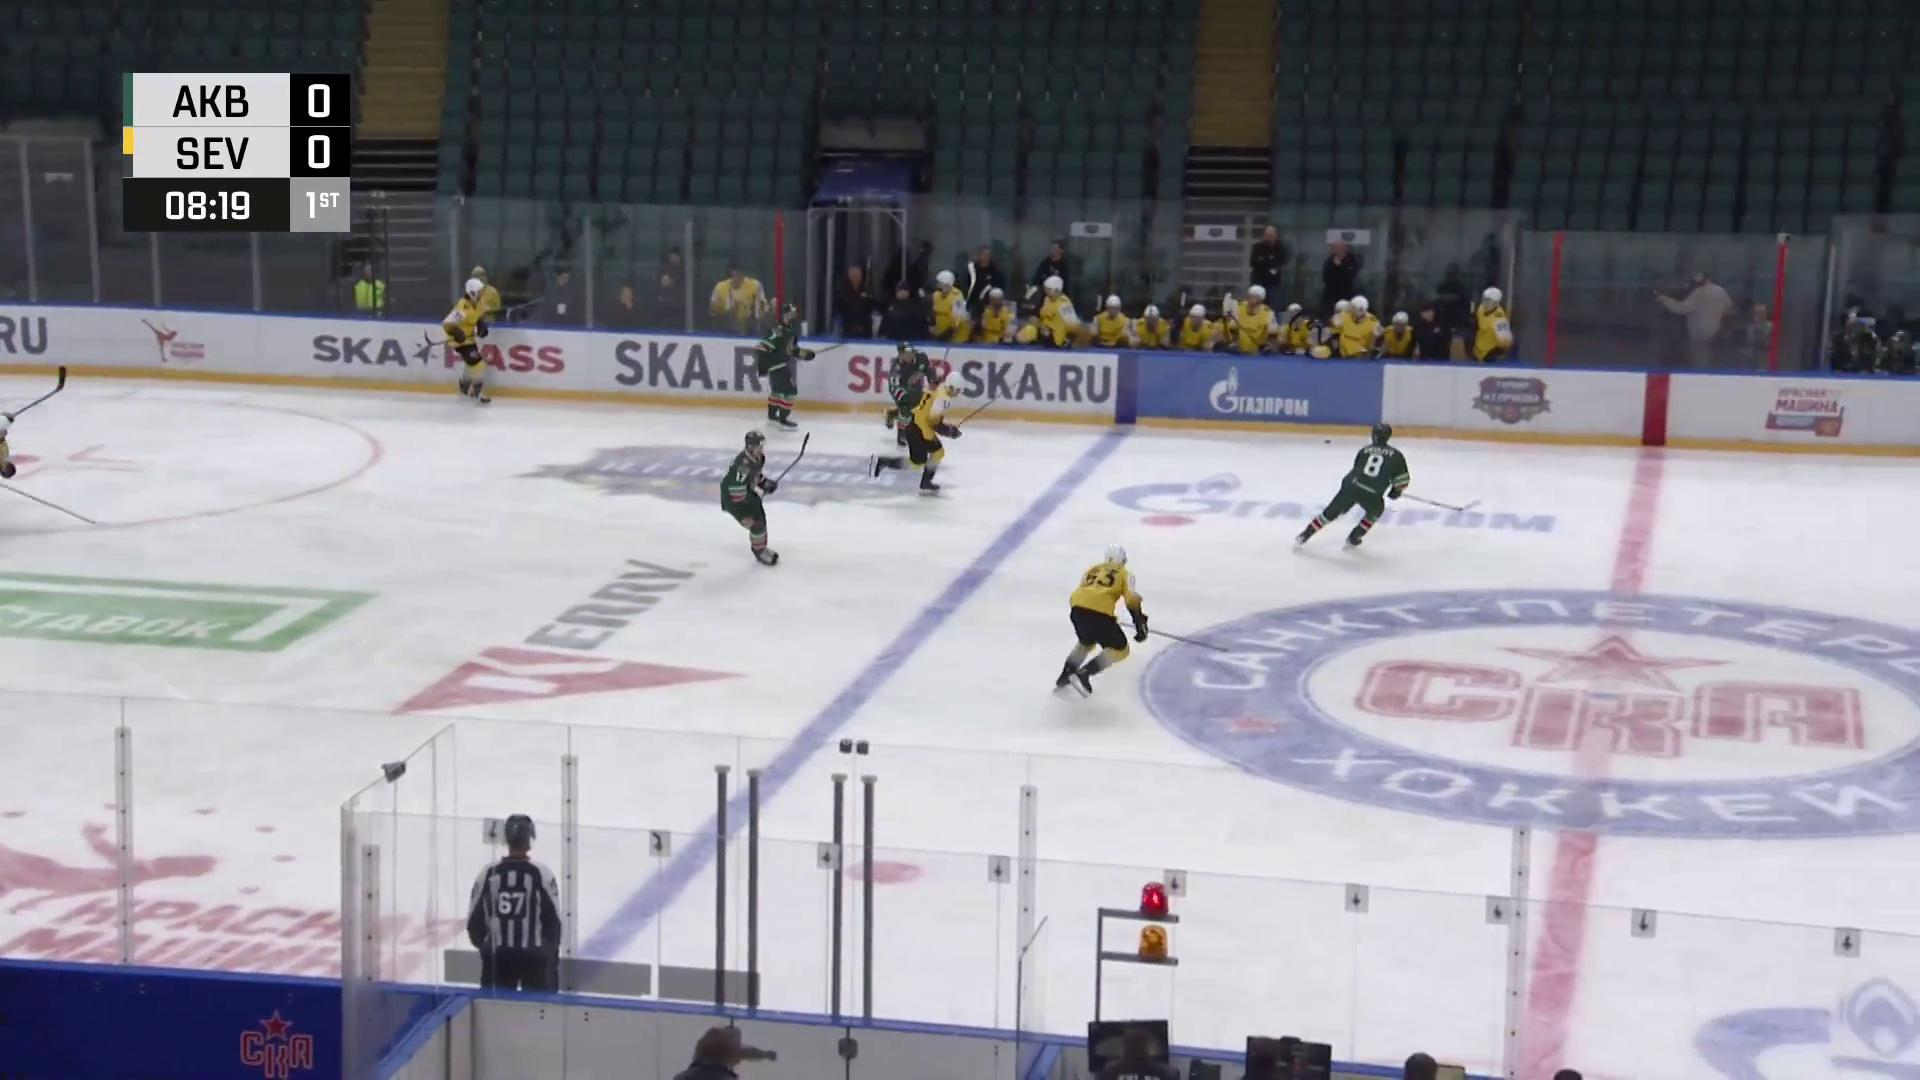ball: (1324, 440, 1331, 444)
